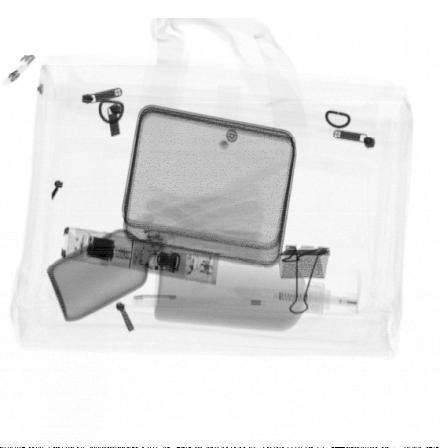Baton: (59, 224, 220, 286)
